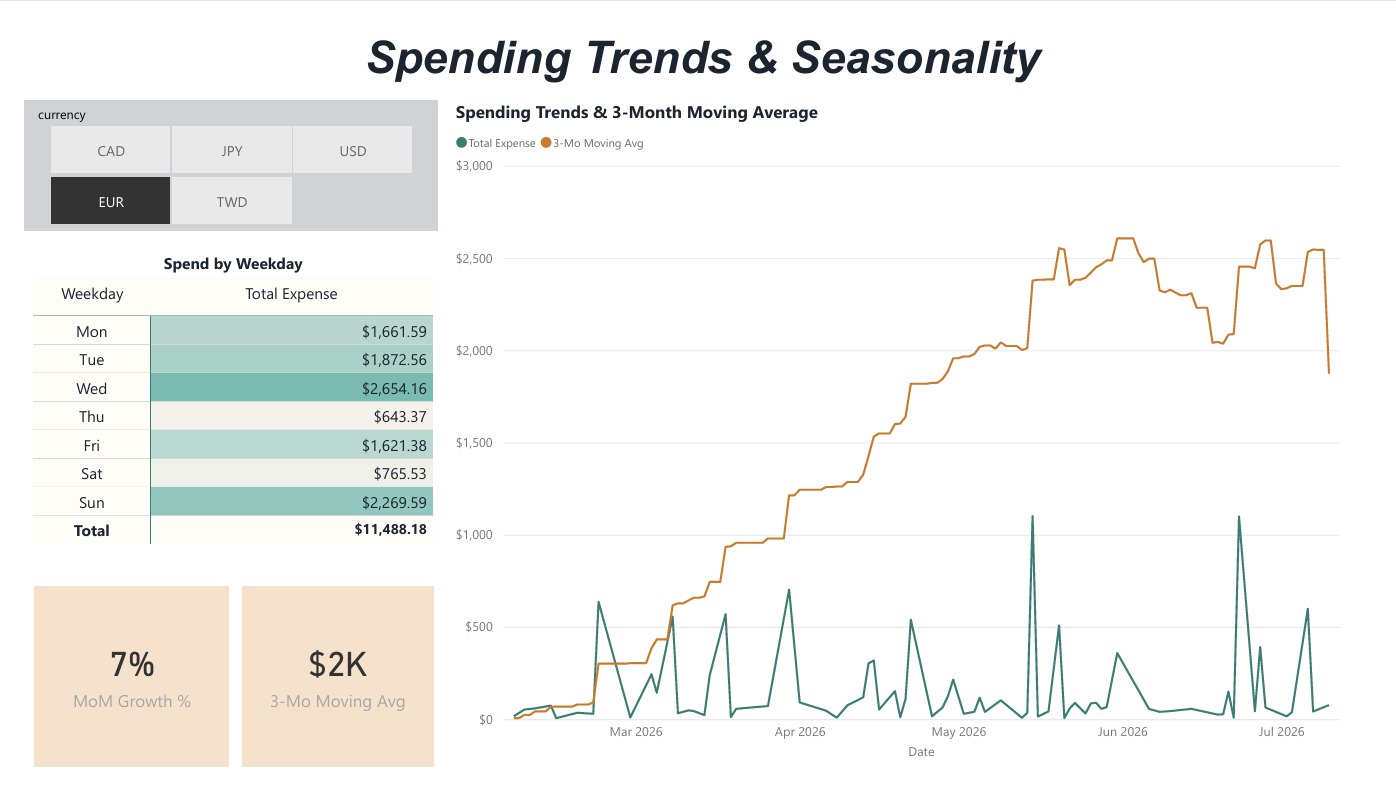

What the dashboard file says about the page in this screenshot:
{"tool":"powerbi","page":{"name":"Spending Trends","canvas":[1280,720],"ordinal":1},"visuals":[{"type":"textbox","box":[10,0,280,280],"z":0},{"type":"textbox","box":[283.3,0,716.7,70],"z":1000},{"type":"lineChart","title":"Spending Trends & 3-Month Moving Average","fields":{"Category":["DateTable.Date"],"Y":["daily_expenses.Total Expense","daily_expenses.3-Mo Moving Avg"]},"box":[402.9,69.6,858,629],"z":2000},{"type":"advanceCardE03760C5AB684758B56AA29F9E6C257B","fields":{"mainMeasure":["daily_expenses.MoM Growth %"]},"box":[10.1,530.4,184.1,171],"z":3000},{"type":"advanceCardE03760C5AB684758B56AA29F9E6C257B","fields":{"mainMeasure":["daily_expenses.3-Mo Moving Avg"]},"box":[205.8,530.4,181.2,171],"z":4000},{"type":"pivotTable","title":"Spend by Weekday","fields":{"Values":["daily_expenses.Total Expense"],"Rows":["DateTable.Weekday"]},"box":[4.3,214.5,387,305.8],"z":5000},{"type":"slicer","fields":{"Values":["daily_expenses.currency"]},"box":[0,69.6,391.3,124.6],"z":6000}]}

Visuals, with their boxes in screenshot pixels (x1, y1, x2, y2), scaled from the page's 1280x720 canvas onto the 1396x808 screenshot:
textbox: box(11, 0, 316, 314)
textbox: box(309, 0, 1091, 79)
"Spending Trends & 3-Month Moving Average" lineChart: box(439, 78, 1375, 784)
advanceCardE03760C5AB684758B56AA29F9E6C257B - daily_expenses.MoM Growth %: box(11, 595, 212, 787)
advanceCardE03760C5AB684758B56AA29F9E6C257B - daily_expenses.3-Mo Moving Avg: box(224, 595, 422, 787)
"Spend by Weekday" pivotTable: box(5, 241, 427, 584)
slicer - daily_expenses.currency: box(0, 78, 427, 218)
